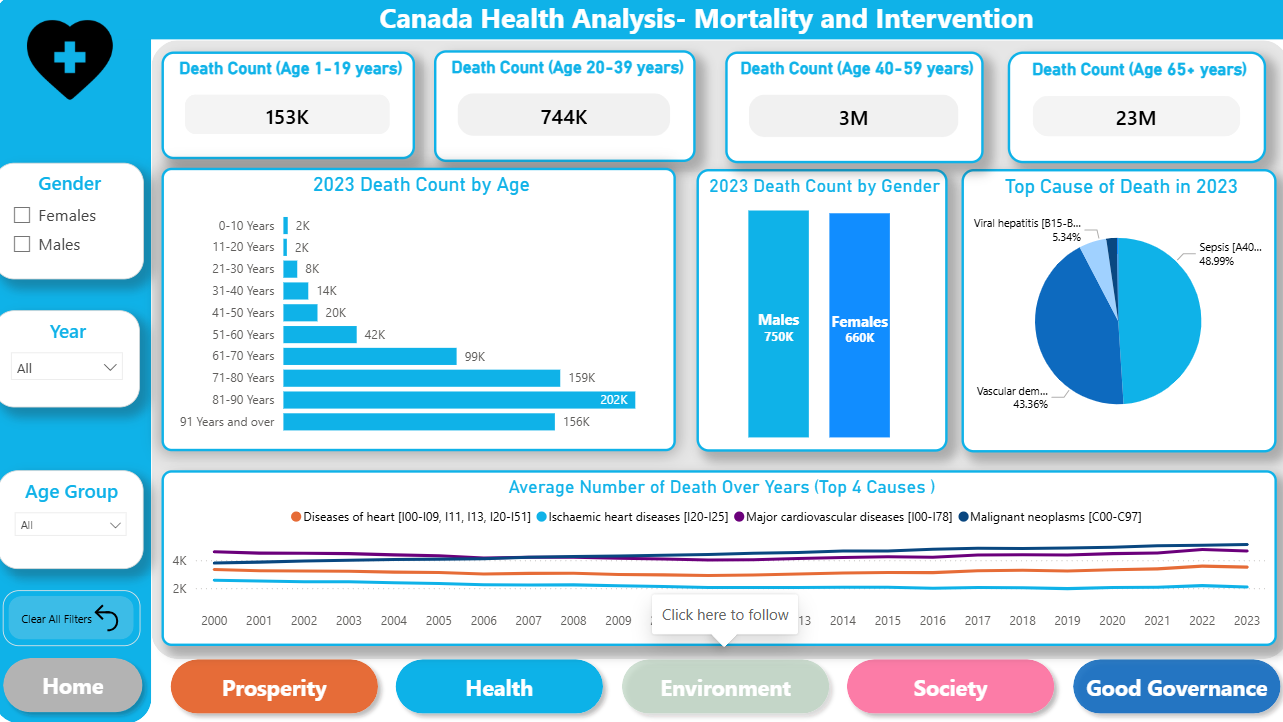

Layout of this report page (visuals, bound fields, positions):
{"tool":"powerbi","page":{"name":"Health","canvas":[1280,720],"ordinal":2},"visuals":[{"type":"shape","box":[0,0,155.6,720.4],"z":0},{"type":"actionButton","title":"Clear All Filters","box":[8.6,589.1,135.7,55],"z":1000},{"type":"shape","box":[156.1,45.4,1123.7,611.2],"z":2000},{"type":"cardVisual","title":"Death Count (Age 1-19 years)","fields":{"Data":["Sum(Mortality_Rate 2000-2023.Number_of_Deaths)"]},"box":[165,56.2,250,106.2],"z":3000},{"type":"cardVisual","title":"Death Count (Age 65+ years)","fields":{"Data":["Sum(Mortality_Rate 2000-2023.Number_of_Deaths)"]},"box":[1001.2,56.2,255,110],"z":4000},{"type":"cardVisual","title":"Death Count (Age 20-39 years)","fields":{"Data":["Sum(Mortality_Rate 2000-2023.Number_of_Deaths)"]},"box":[435,55,258.8,110],"z":5000},{"type":"columnChart","title":"2023 Death Count by Gender","fields":{"Y":["Sum(Health Page Dataset.Number_of_Deaths)"],"Category":["Health Page Dataset.Sex"],"Series":["Health Page Dataset.Sex"]},"box":[693.8,172.4,248.1,278.9],"z":6000},{"type":"pieChart","title":"Top Cause of Death in 2023","fields":{"Category":["Mortality_Rate 2000-2023.Cause_of_Death"],"Y":["Avg(Mortality_Rate 2000-2023.Percent_of_Total_Deaths)"]},"box":[955.9,172.4,311.1,280.3],"z":7000},{"type":"slicer","title":"Year ","fields":{"Values":["Mortality_Rate 2000-2023.Year"]},"box":[0,312.6,144.3,96.2],"z":8000},{"type":"slicer","title":"Age Group","fields":{"Values":["Health Page Dataset.Age Range"]},"box":[3.4,470.6,144.3,97.9],"z":9000},{"type":"slicer","title":"Gender","fields":{"Values":["Mortality_Rate 2000-2023.Sex"]},"box":[0,166.6,147.7,115.1],"z":10000},{"type":"image","box":[6.7,22.7,137.5,85.4],"z":11000},{"type":"actionButton","box":[165.4,648.5,222.8,71.5],"z":12000},{"type":"actionButton","box":[388.2,648.5,222.8,71.5],"z":13000},{"type":"actionButton","box":[611.1,648.5,222.8,71.5],"z":14000},{"type":"actionButton","box":[833.9,648.5,222.8,71.5],"z":15000},{"type":"actionButton","box":[1056.8,648.5,222.8,71.5],"z":16000},{"type":"actionButton","box":[0,647.5,155.6,71.5],"z":17000},{"type":"textbox","box":[128.9,0,1150.7,44.9],"z":18000},{"type":"barChart","title":"2023 Death Count by Age","fields":{"Category":["Health Page Dataset.Age_Groups","Health Page Dataset.Year"],"Y":["Sum(Health Page Dataset.Number_of_Deaths)"]},"box":[164.9,171.8,508.4,280],"z":19000},{"type":"cardVisual","title":"Death Count (Age 40-59 years)","fields":{"Data":["Sum(Mortality_Rate 2000-2023.Number_of_Deaths)"]},"box":[722.5,56.2,255,110],"z":20000},{"type":"lineChart","title":"Average Number of Death Over Years (Top 4 Causes )","fields":{"Y":["Avg(Health Page Dataset.Number_of_Deaths)"],"Category":["Health Page Dataset.Year"],"Series":["Health Page Dataset.Cause_of_Death"]},"box":[165.4,470.9,1101.6,173.8],"z":21000}]}

Visuals, with their boxes in screenshot pixels (x1, y1, x2, y2), scaled from the page's 1280x720 canvas onto the 1283x722 screenshot:
shape: box=[0, 0, 156, 721]
"Clear All Filters" actionButton: box=[9, 591, 145, 646]
shape: box=[156, 46, 1282, 658]
"Death Count (Age 1-19 years)" cardVisual: box=[165, 56, 416, 163]
"Death Count (Age 65+ years)" cardVisual: box=[1004, 56, 1259, 167]
"Death Count (Age 20-39 years)" cardVisual: box=[436, 55, 695, 165]
"2023 Death Count by Gender" columnChart: box=[695, 173, 944, 453]
"Top Cause of Death in 2023" pieChart: box=[958, 173, 1270, 454]
"Year " slicer: box=[0, 313, 145, 410]
"Age Group" slicer: box=[3, 472, 148, 570]
"Gender" slicer: box=[0, 167, 148, 282]
image: box=[7, 23, 145, 108]
actionButton: box=[166, 650, 389, 721]
actionButton: box=[389, 650, 612, 721]
actionButton: box=[613, 650, 836, 721]
actionButton: box=[836, 650, 1059, 721]
actionButton: box=[1059, 650, 1282, 721]
actionButton: box=[0, 649, 156, 721]
textbox: box=[129, 0, 1282, 45]
"2023 Death Count by Age" barChart: box=[165, 172, 675, 453]
"Death Count (Age 40-59 years)" cardVisual: box=[724, 56, 980, 167]
"Average Number of Death Over Years (Top 4 Causes )" lineChart: box=[166, 472, 1270, 646]
